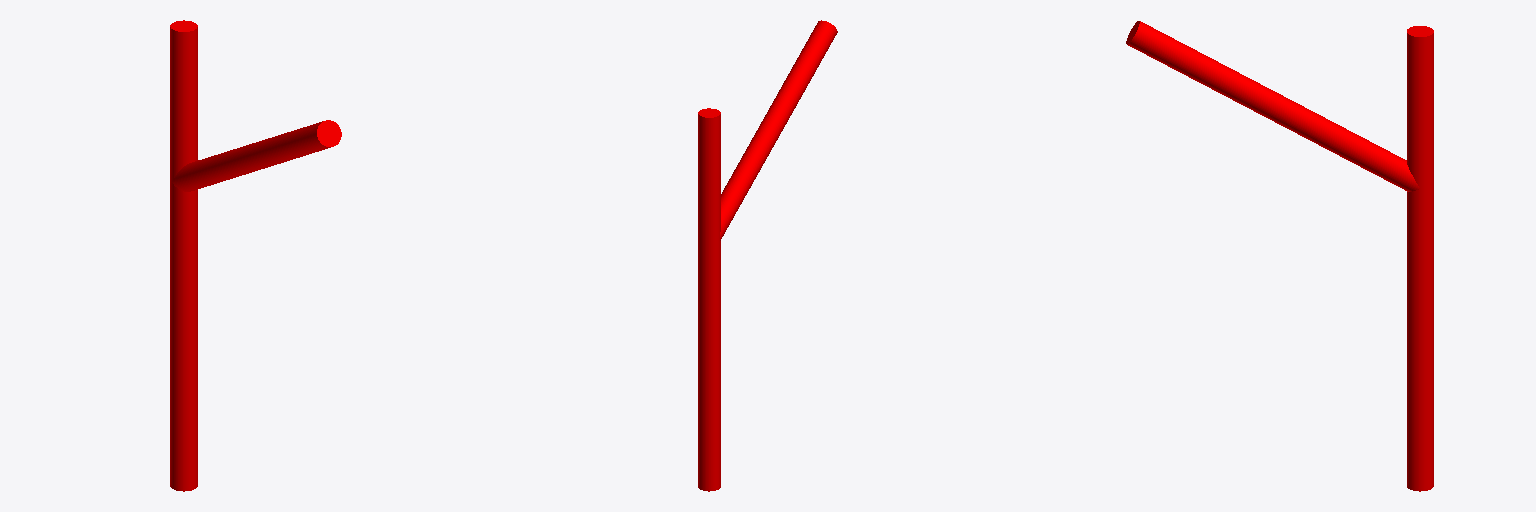
robot.urdf — tree.urdf:
<?xml version="1.0" ?>
<robot name="tree.urdf">
  <link name="baseLink">
    <inertial>
      <origin rpy="0 0 0" xyz="0 0 0"/>
       <mass value=".1"/>
       <inertia ixx="1" ixy="0" ixz="0" iyy="1" iyz="0" izz="1"/>
    </inertial>
    <contact>
      <lateral_friction value="1.0"/>
      <inertia_scaling value="3.0"/>
    </contact>
    <visual>
      <origin rpy="0 0 0" xyz="0 0 0"/>
      <geometry>
        <mesh filename="11.stl" scale="1 1 1" />
      </geometry>
      <material name="red">
        <color rgba="1 0 0 1"/>
      </material>
    </visual>
    <collision>
      <origin rpy="0 0 0" xyz="0 0 0"/>
      <geometry>
        <mesh filename="11_convex.obj" scale="1 1 1" />
      </geometry>
    </collision>
  </link>
</robot>

--- What the picture shows (computed from the rendered views, not written in the file) ---
3 views of the same robot in one strip: view 1: azimuth 30°, elevation 25°; view 2: azimuth 150°, elevation 25°; view 3: azimuth 270°, elevation 25° (orthographic).
Model tree.urdf with 1 links and 0 joints (none), rooted at baseLink, posed all joints at 0.
Visible links, largest first — view 1: baseLink; view 2: baseLink; view 3: baseLink.
Boxes of the visible links, x1,y1,x2,y2 form: baseLink: (170, 20, 341, 491); baseLink: (698, 20, 837, 491); baseLink: (1126, 21, 1433, 491).
Size in the robot's own frame: 0.0136 by 0.1534 by 0.2552 metres.
1 mesh visuals loaded from 1 distinct referenced files (1 binary STL).